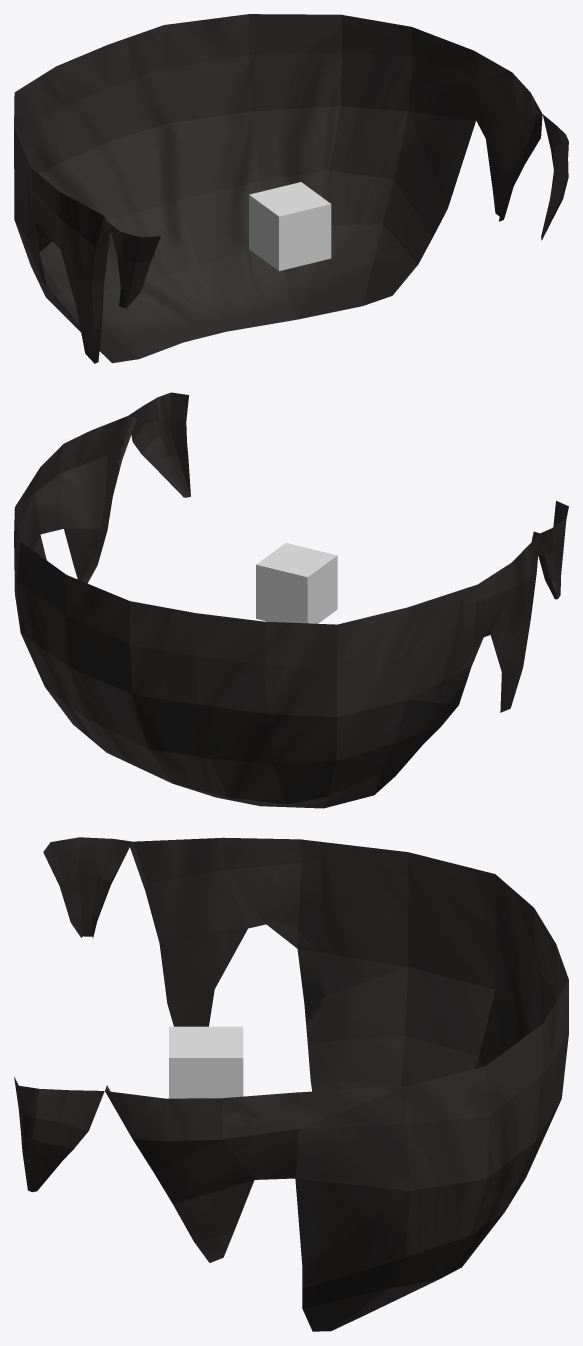
The model's file is boy_hair2.FBX.
3 views of the same model, one above another, from view 1: azimuth 30°, elevation 25°; view 2: azimuth 150°, elevation 25°; view 3: azimuth 270°, elevation 25° (orthographic). The views are drawn at different scales.
Visible parts, largest first — view 1: boy_pivot19, boy_pivot02; view 2: boy_pivot19, boy_pivot02; view 3: boy_pivot19, boy_pivot02.
Part boxes in pixels (x1=…): boy_pivot19: x1=14, y1=14, x2=568, y2=363; boy_pivot02: x1=249, y1=182, x2=331, y2=271; boy_pivot19: x1=14, y1=392, x2=568, y2=808; boy_pivot02: x1=256, y1=543, x2=337, y2=623; boy_pivot19: x1=14, y1=837, x2=568, y2=1331; boy_pivot02: x1=169, y1=1026, x2=243, y2=1098.
Size of the model in its own units: 43.78 by 23.41 by 37.41.
Materials: 1 (1 with a texture image).
